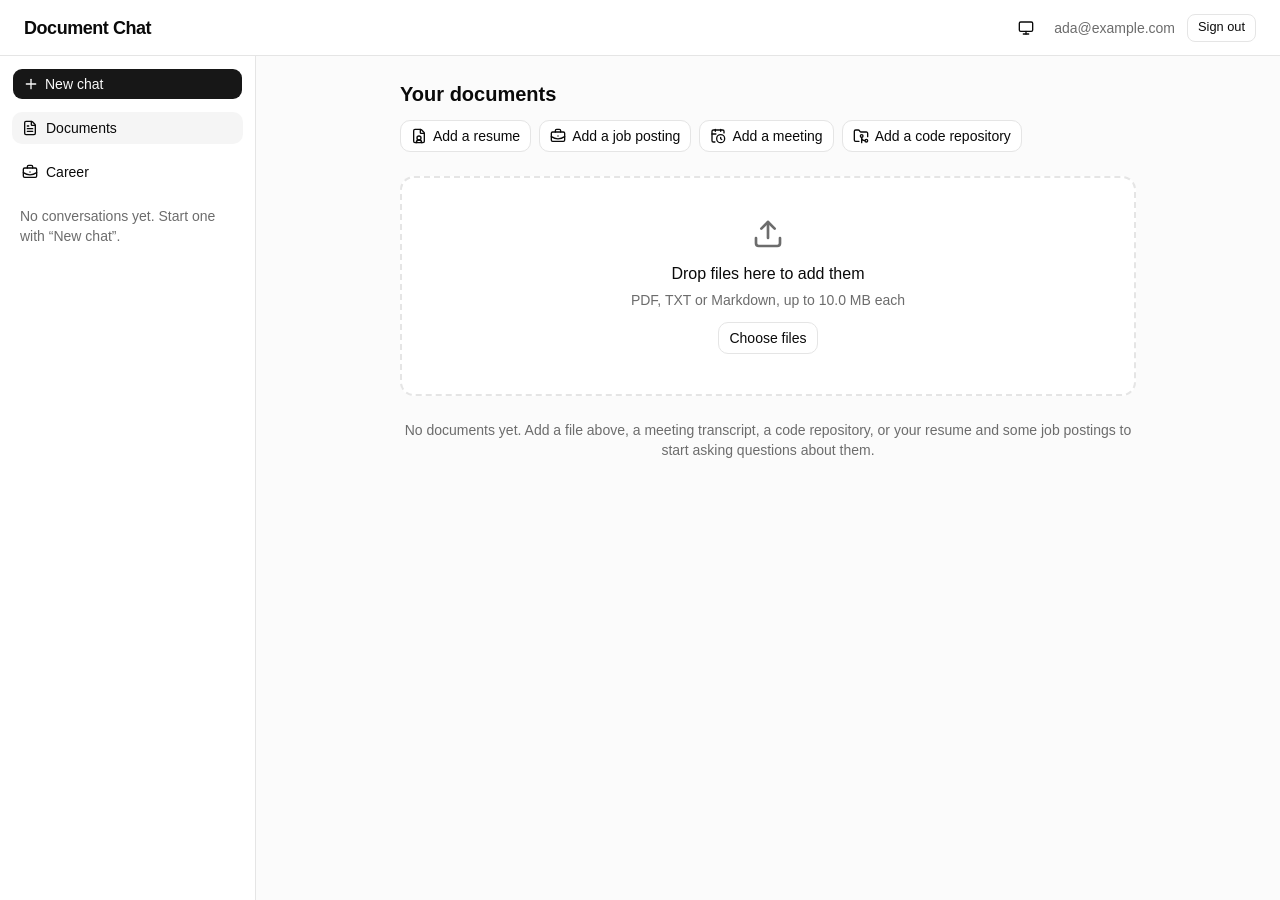
Scenario: the Career page › getting there › is in the navigation next to Documents
Click the link "Career": click(55, 172) [22,164,89,180]
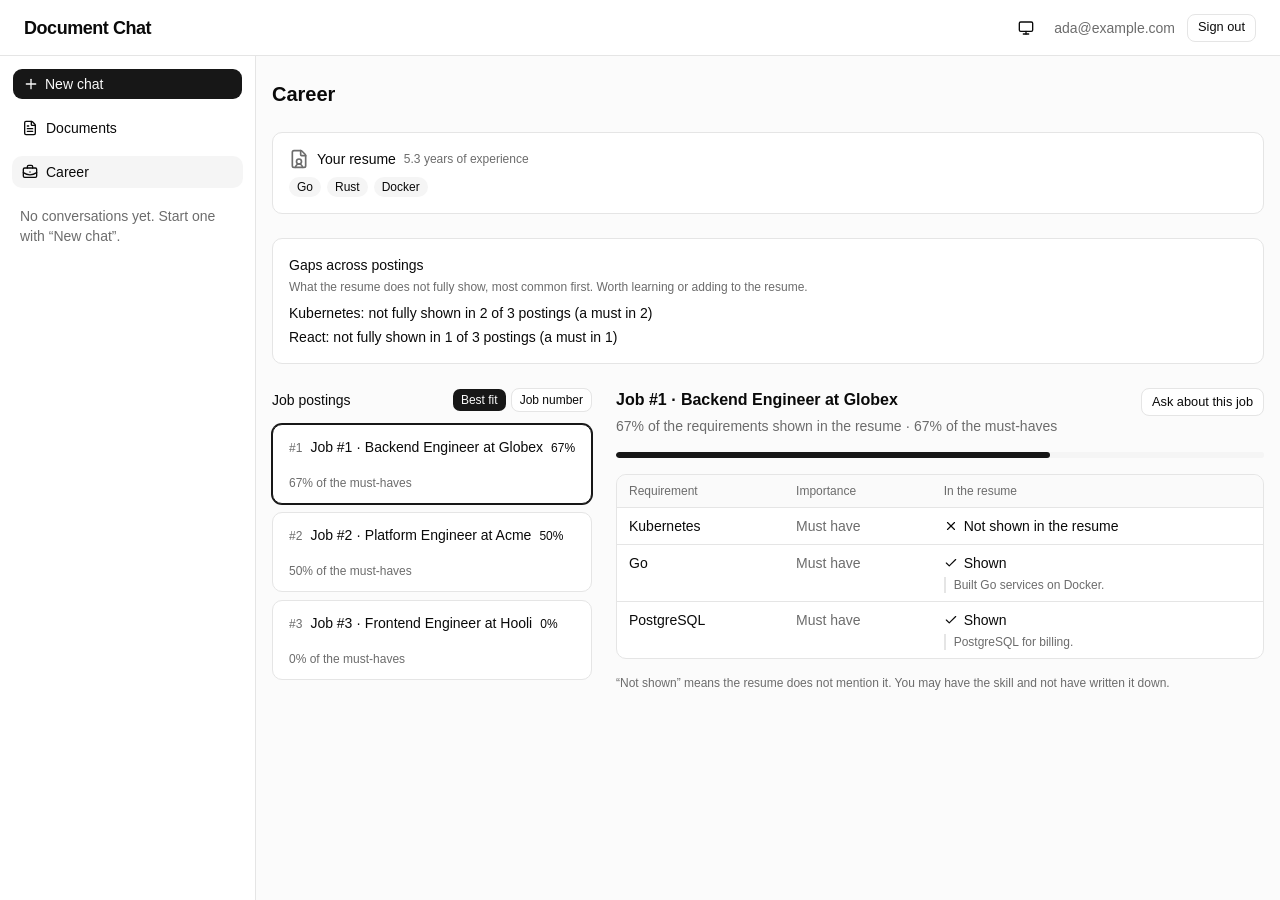
Expected: the heading "Career" is shown, [272,83,335,105]
